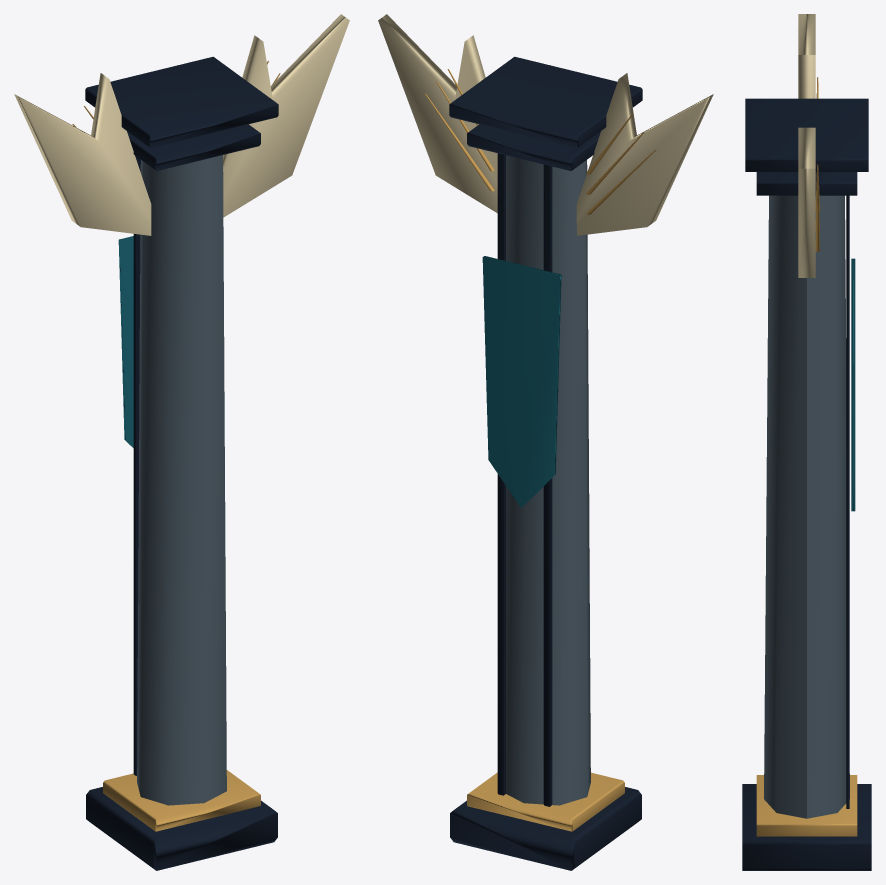
The model's file is prop_3_3.glb.
3 views of the same model, side by side, from view 1: azimuth 30°, elevation 25°; view 2: azimuth 150°, elevation 25°; view 3: azimuth 270°, elevation 25° (orthographic). The views are drawn at different scales.
Visible parts, largest first — view 1: StoneShaft, WingedCapital (×2), Cornice (×3), Foundation, Flute, HangingBanner; view 2: StoneShaft, WingedCapital (×2), Cornice (×3), HangingBanner, Flute (×2), Foundation; view 3: StoneShaft, Cornice (×3), Foundation, WingedCapital (×2), Flute, HangingBanner.
Boxes of the visible parts, x1=… form: StoneShaft: x1=137, y1=155, x2=226, y2=805; WingedCapital (×2): x1=14, y1=14, x2=349, y2=235; Cornice (×3): x1=85, y1=56, x2=278, y2=831; Foundation: x1=86, y1=787, x2=277, y2=870; Flute: x1=133, y1=155, x2=140, y2=775; HangingBanner: x1=118, y1=236, x2=133, y2=447; StoneShaft: x1=506, y1=155, x2=590, y2=805; WingedCapital (×2): x1=378, y1=14, x2=713, y2=235; Cornice (×3): x1=449, y1=56, x2=642, y2=831; HangingBanner: x1=482, y1=256, x2=561, y2=507; Flute (×2): x1=497, y1=153, x2=552, y2=806; Foundation: x1=450, y1=787, x2=641, y2=870; StoneShaft: x1=764, y1=195, x2=849, y2=818; Cornice (×3): x1=745, y1=98, x2=868, y2=836; Foundation: x1=742, y1=784, x2=871, y2=870; WingedCapital (×2): x1=798, y1=14, x2=815, y2=277; Flute: x1=846, y1=195, x2=849, y2=808; HangingBanner: x1=851, y1=258, x2=855, y2=511.
Size of the model in its own units: 3.4 by 7.7 by 1.2.
